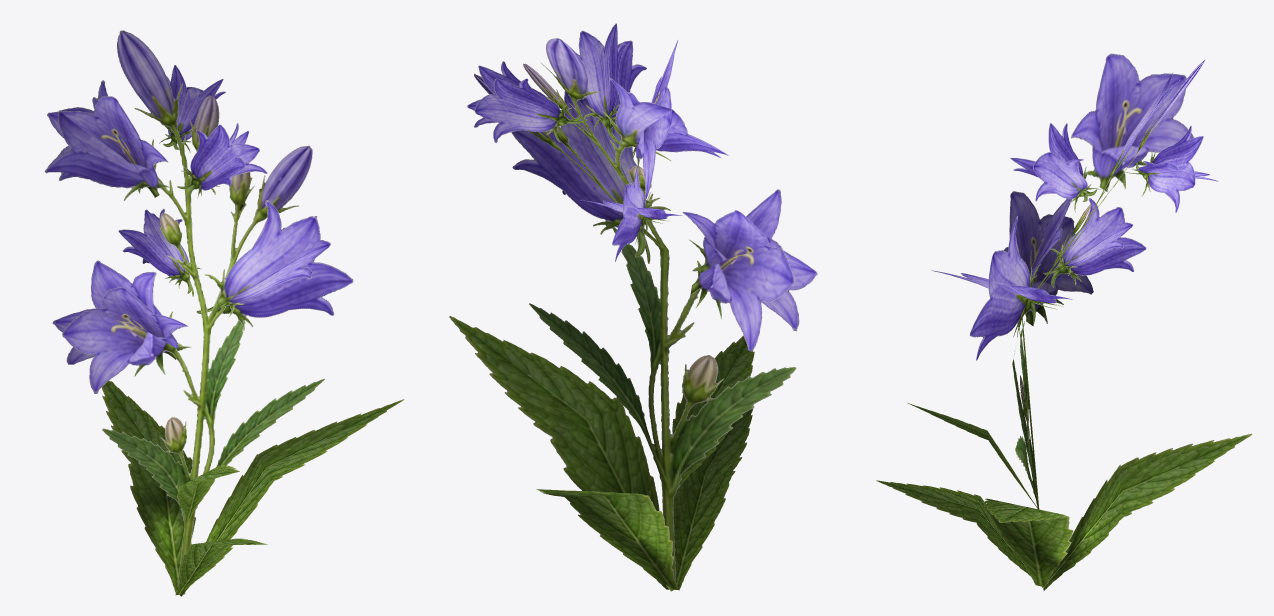
File: SM_Flower_01.fbx
The picture shows the model from 3 angles, left to right: view 1: azimuth 30°, elevation 25°; view 2: azimuth 150°, elevation 25°; view 3: azimuth 270°, elevation 25°; orthographic projection. The views are drawn at different scales.
Visible parts, largest first — view 1: SM_Flower_01; view 2: SM_Flower_01; view 3: SM_Flower_01.
Part boxes in pixels (bbox=[...]): SM_Flower_01: bbox=[44, 30, 404, 596]; SM_Flower_01: bbox=[449, 23, 817, 591]; SM_Flower_01: bbox=[876, 53, 1252, 590].
Bounding box in the file's own units: 0.6325 × 0.8965 × 0.5715.
